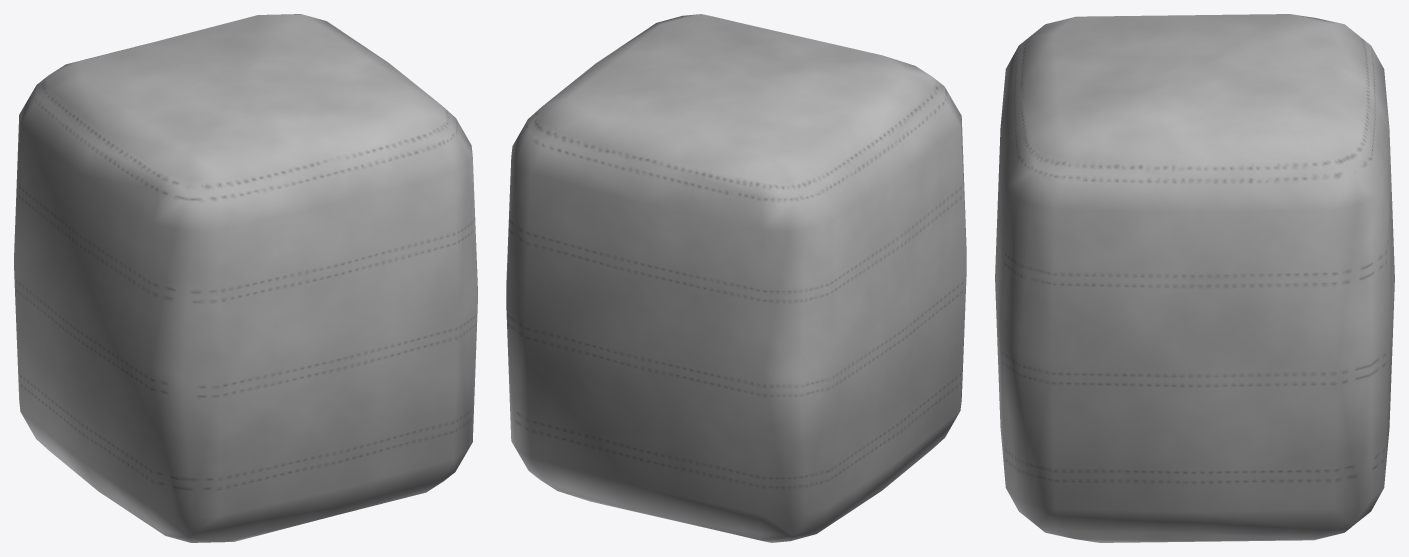
File: RightLowerLeg_C1.fbx
The picture shows the model from 3 angles, left to right: view 1: azimuth 30°, elevation 25°; view 2: azimuth 150°, elevation 25°; view 3: azimuth 270°, elevation 25°; orthographic projection. The views are drawn at different scales.
Parts seen in each view (by area): view 1: Civ_Jean_RightLowerLeg_C1; view 2: Civ_Jean_RightLowerLeg_C1; view 3: Civ_Jean_RightLowerLeg_C1.
Boxes of the visible parts, x1=… form: Civ_Jean_RightLowerLeg_C1: x1=14, y1=14, x2=477, y2=542; Civ_Jean_RightLowerLeg_C1: x1=506, y1=14, x2=966, y2=542; Civ_Jean_RightLowerLeg_C1: x1=995, y1=14, x2=1394, y2=542.
Bounding box in the file's own units: 1.21 × 1.37 × 1.19.
